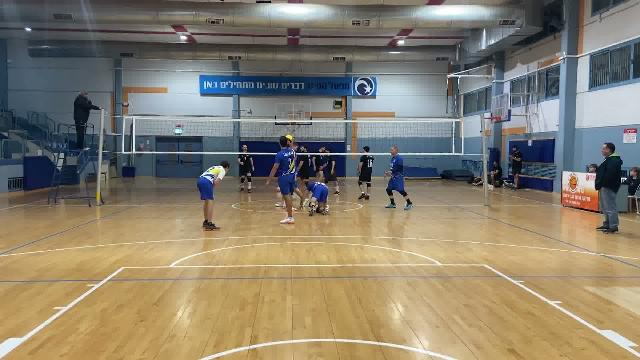ball: (283, 133, 298, 146)
